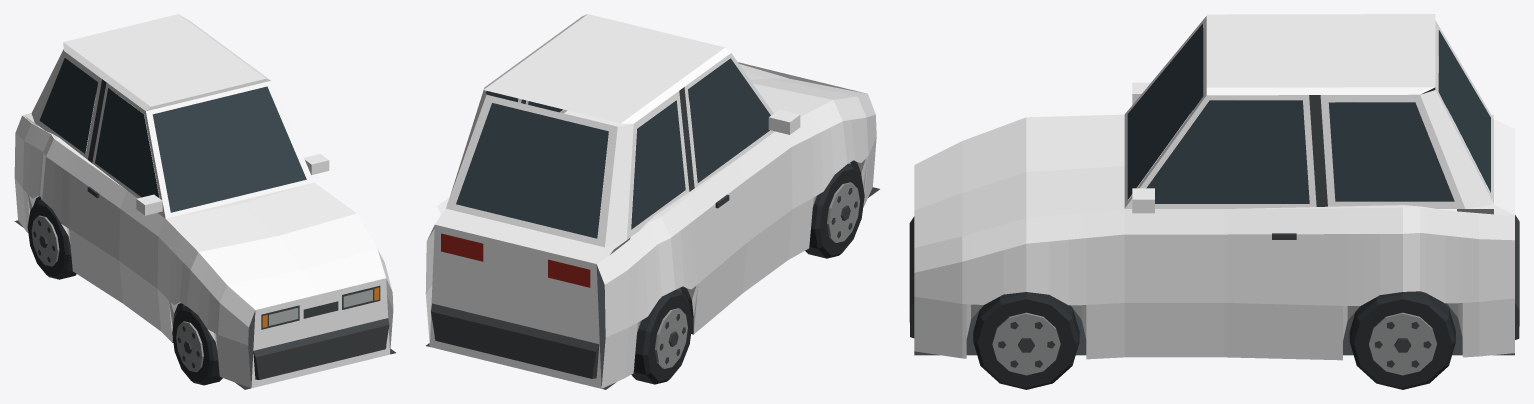
The model's file is kanaya_yuzuki_s.glb.
3 views of the same model, side by side, from view 1: azimuth 30°, elevation 25°; view 2: azimuth 150°, elevation 25°; view 3: azimuth 270°, elevation 25° (orthographic). The views are drawn at different scales.
Parts seen in each view (by area): view 1: kanaya_yuzuki_s; view 2: kanaya_yuzuki_s; view 3: kanaya_yuzuki_s.
Boxes of the visible parts, x1,y1,x2,y2 form: kanaya_yuzuki_s: (14,14,395,389); kanaya_yuzuki_s: (425,14,879,389); kanaya_yuzuki_s: (909,14,1519,389).
Size of the model in its own units: 1.46 by 1.66 by 3.21.
Materials: 8 (1 with a texture image).
